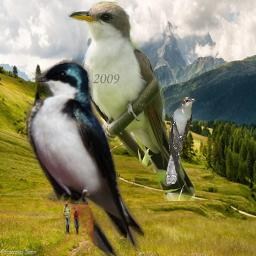Cuckoo: (68, 0, 195, 201), (165, 96, 198, 184)
Swallow: (24, 59, 146, 256)
